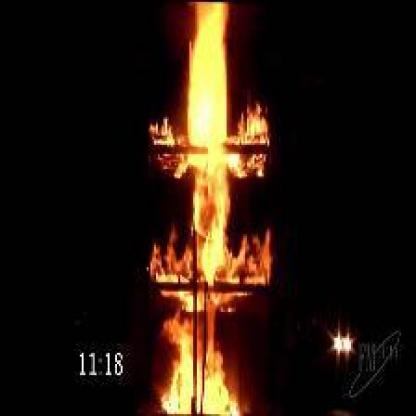fire: (138, 8, 269, 412)
other: (324, 325, 356, 359)
